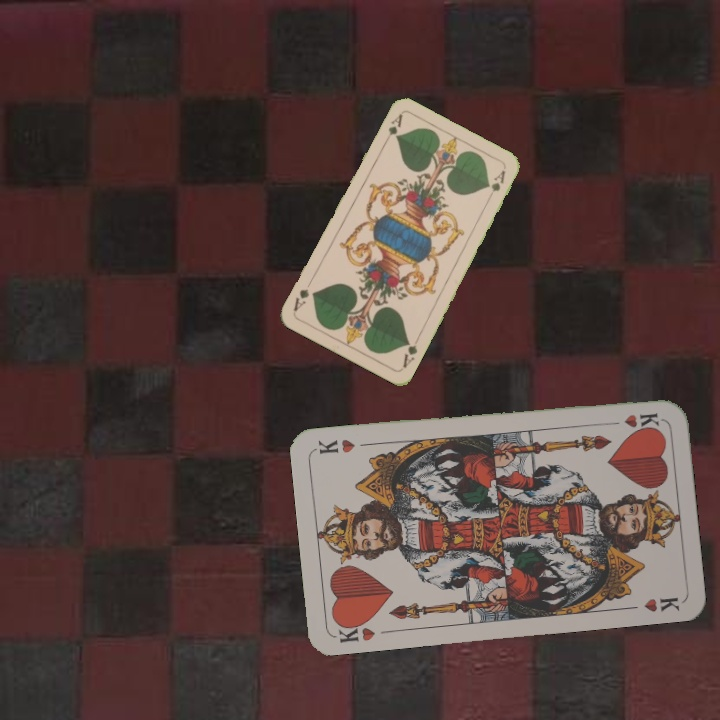GA: (379, 110, 405, 148), (398, 334, 422, 371)
HK: (332, 616, 378, 645), (603, 409, 662, 430)
